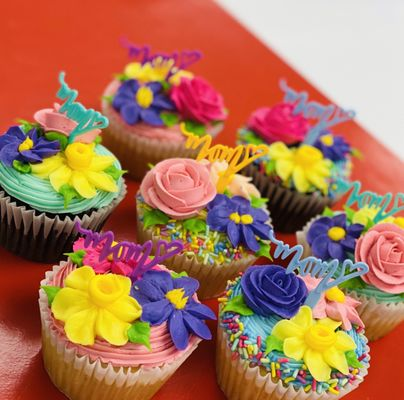sushi: (215, 249, 374, 397), (98, 50, 231, 179)
